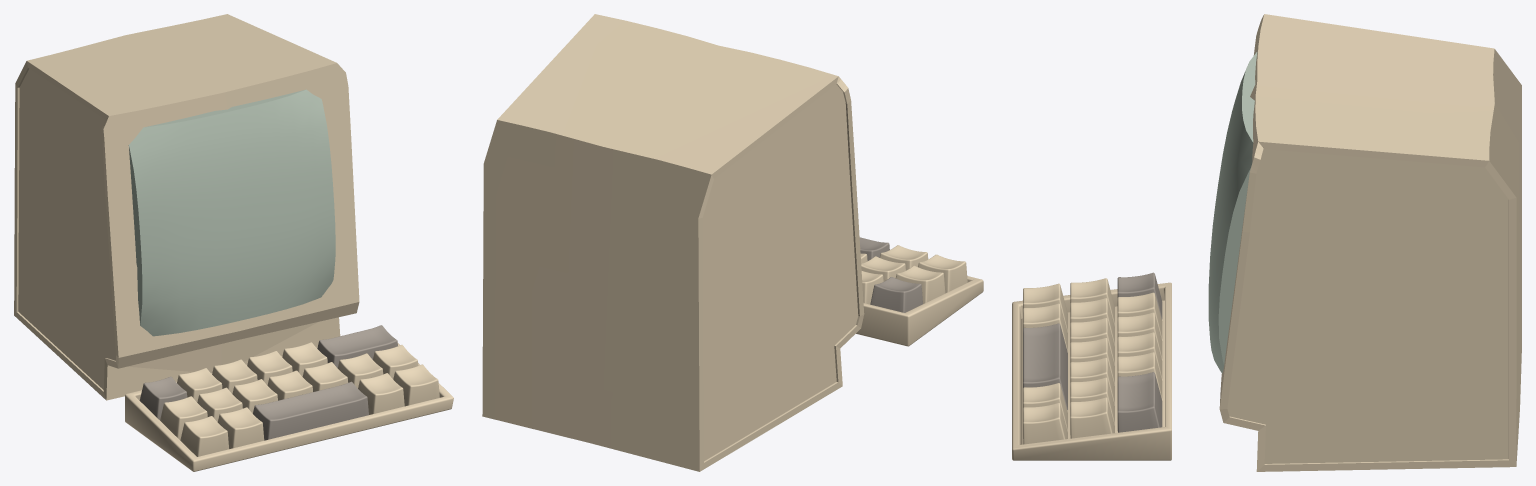
The model's file is keyboard fbx.fbx.
The picture shows the model from 3 angles, left to right: view 1: azimuth 30°, elevation 25°; view 2: azimuth 150°, elevation 25°; view 3: azimuth 270°, elevation 25°; orthographic projection. The views are drawn at different scales.
Parts seen in each view (by area): view 1: Cube, Cube.001, Plane.001, Plane; view 2: Cube, Plane.001, Plane; view 3: Cube, Plane.001, Plane, Cube.001.
Part boxes in pixels (x1,y1,x2,y2): Cube: (14, 14, 359, 400); Cube.001: (128, 89, 335, 336); Plane.001: (139, 325, 439, 456); Plane: (125, 343, 453, 471); Cube: (482, 14, 864, 471); Plane.001: (859, 237, 967, 312); Plane: (856, 276, 983, 346); Cube: (1219, 14, 1521, 471); Plane.001: (1023, 272, 1162, 444); Plane: (1012, 282, 1171, 460); Cube.001: (1208, 52, 1257, 373).
Bounding box in the file's own units: 410 × 429 × 598.
